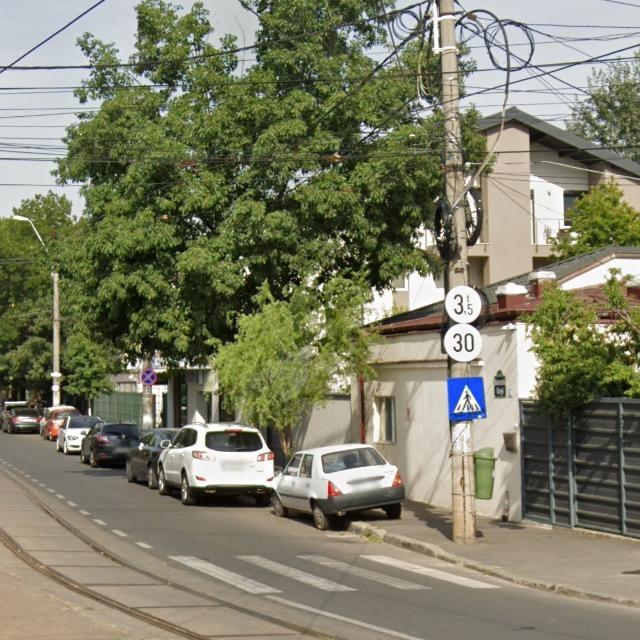forb_speed_over_30: (442, 323, 481, 362)
forb_waiting: (140, 369, 157, 386)
info_crosswalk: (448, 377, 487, 421)
